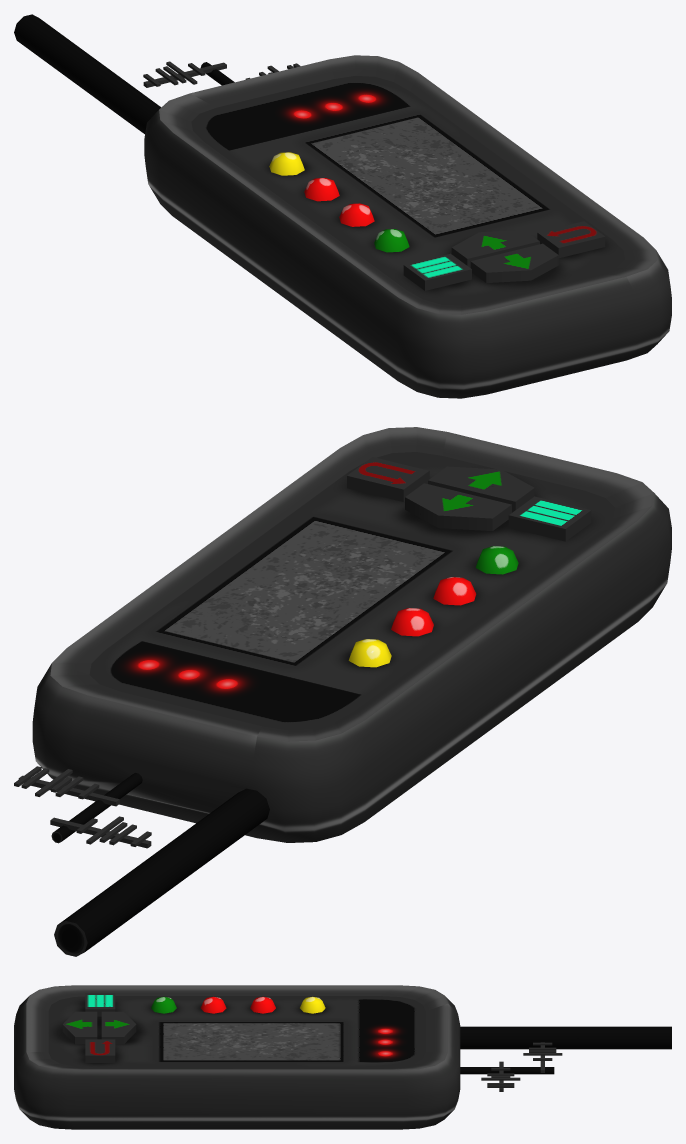
Rendered from sonar.FBX.
3 renders of one model, top to bottom at view 1: azimuth 30°, elevation 25°; view 2: azimuth 150°, elevation 25°; view 3: azimuth 270°, elevation 25°, orthographic. The views are drawn at different scales.
Visible parts, largest first — view 1: Box001; view 2: Box001; view 3: Box001.
Boxes of the visible parts, left/top/right/bottom form: Box001: left=14, top=14, right=671, bottom=398; Box001: left=14, top=427, right=671, bottom=956; Box001: left=14, top=985, right=671, bottom=1129.
Bounding box in the file's own units: 34.23 × 11.79 × 106.
